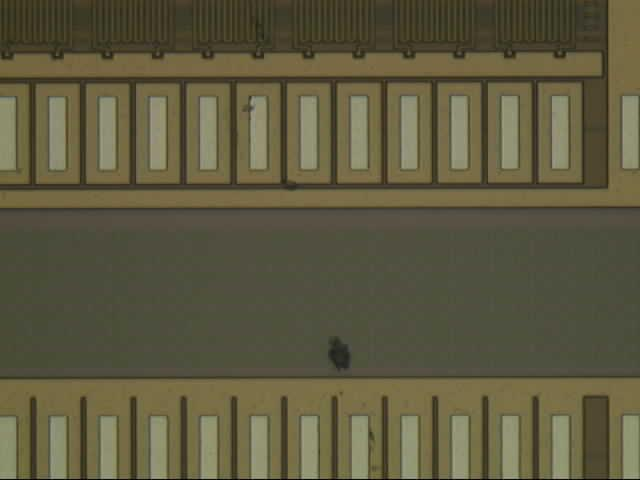SCRATCH: (238, 97, 393, 480)
